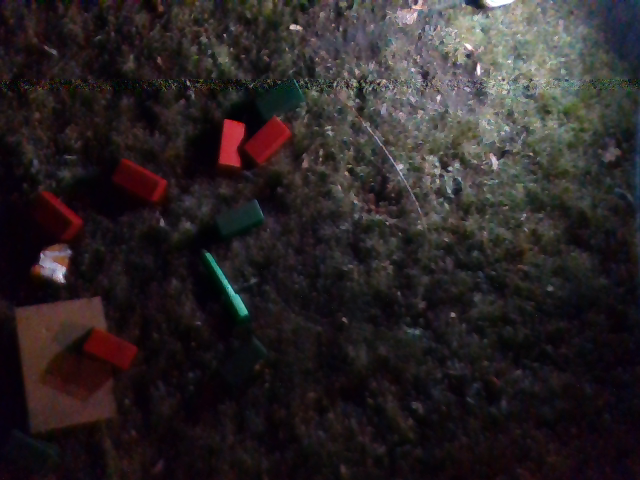Probe: (200, 252, 255, 320)
